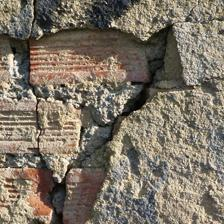Crack: (0, 25, 74, 192), (28, 80, 55, 200), (68, 45, 105, 129)
